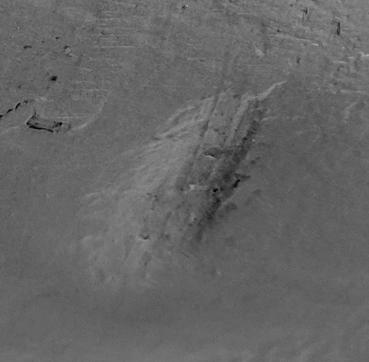dent: (1, 1, 369, 362)
